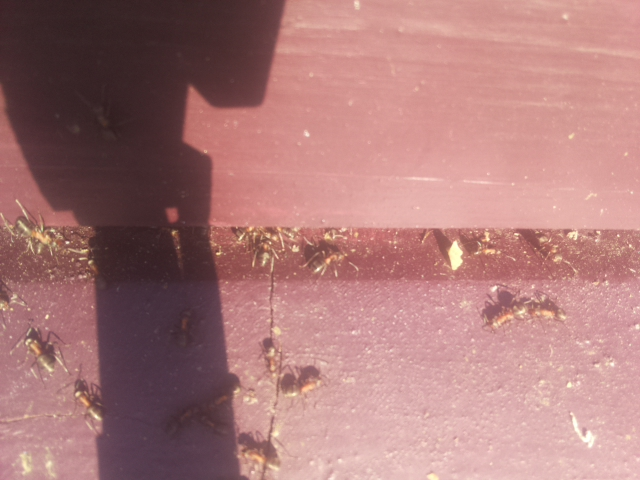ant: (64, 77, 127, 137), (3, 205, 72, 256), (231, 431, 288, 476), (17, 330, 60, 380), (68, 375, 106, 430), (276, 369, 325, 403), (567, 408, 600, 453), (257, 334, 284, 384), (171, 306, 194, 351)
